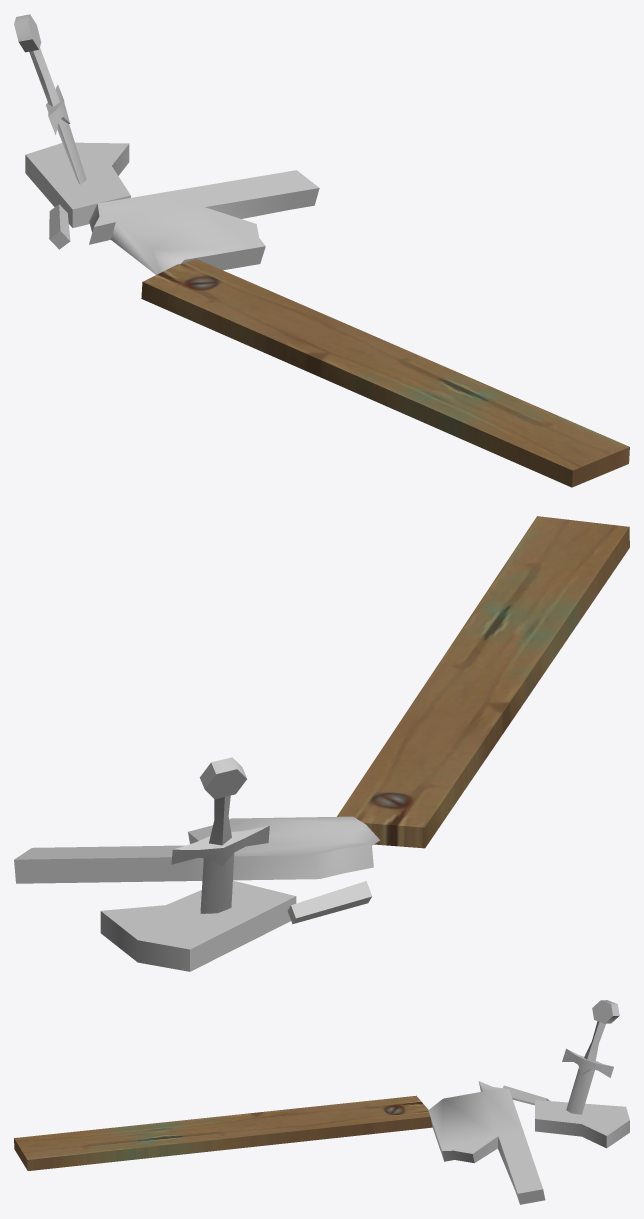
The model's file is chenqiang_xiaowujian01.FBX.
3 views of the same model, one above another, from view 1: azimuth 30°, elevation 25°; view 2: azimuth 150°, elevation 25°; view 3: azimuth 270°, elevation 25° (orthographic). The views are drawn at different scales.
Visible parts, largest first — view 1: chenqiang_xiaowujian01; view 2: chenqiang_xiaowujian01; view 3: chenqiang_xiaowujian01.
Part boxes in pixels (<box>): chenqiang_xiaowujian01: <box>14,14,629,487</box>; chenqiang_xiaowujian01: <box>14,516,629,971</box>; chenqiang_xiaowujian01: <box>14,1000,629,1204</box>.
Bounding box in the file's own units: 130 × 87.61 × 374.
